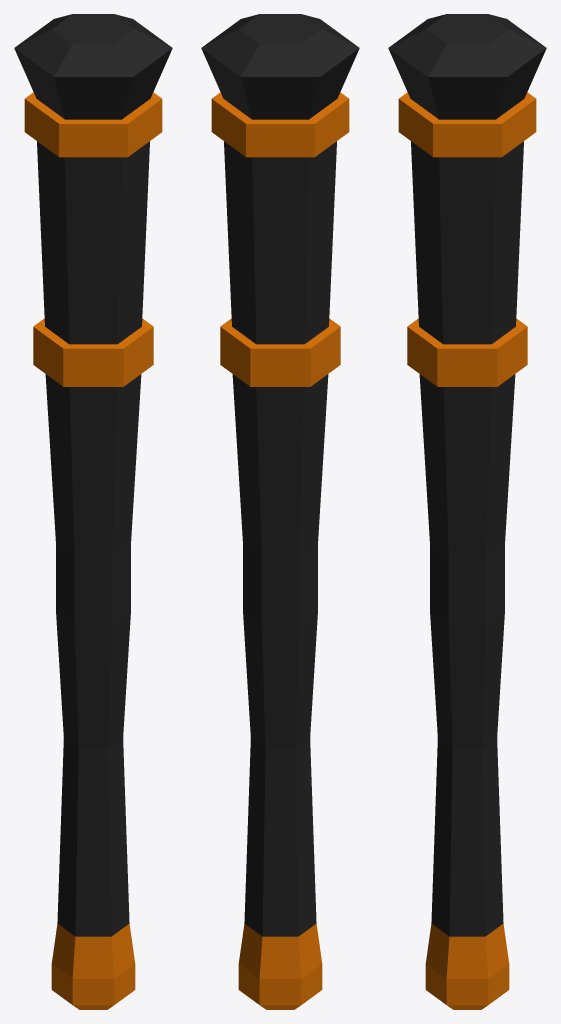
Rendered from Weapon_FM_Club.glb.
3 views of the same model, side by side, from view 1: azimuth 30°, elevation 25°; view 2: azimuth 150°, elevation 25°; view 3: azimuth 270°, elevation 25° (orthographic).
Visible parts, largest first — view 1: Weapon_Club; view 2: Weapon_Club; view 3: Weapon_Club.
Part boxes in pixels (bbox=[...]): Weapon_Club: bbox=[14, 14, 172, 1009]; Weapon_Club: bbox=[201, 14, 359, 1009]; Weapon_Club: bbox=[388, 14, 546, 1009].
Size of the model in its own units: 0.1091 by 0.85 by 0.1259.
